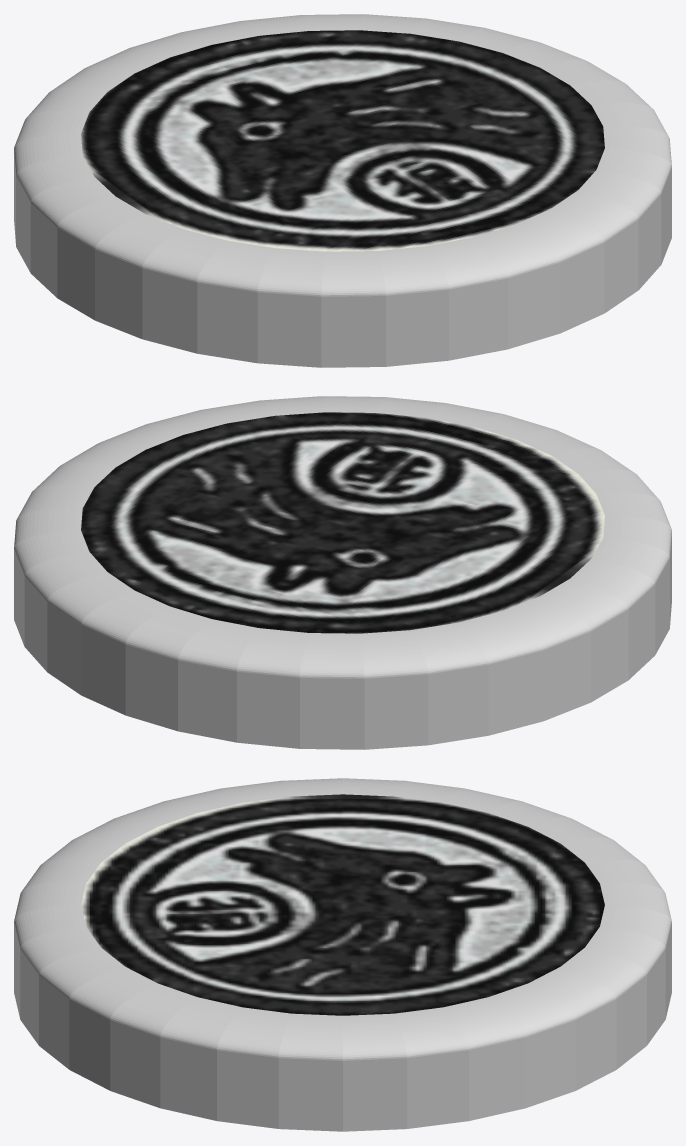
File: Black Wolf.fbx
3 views of the same model, one above another, from view 1: azimuth 30°, elevation 25°; view 2: azimuth 150°, elevation 25°; view 3: azimuth 270°, elevation 25° (orthographic).
Parts seen in each view (by area): view 1: Cylinder.003; view 2: Cylinder.003; view 3: Cylinder.003.
Boxes of the visible parts, box(x1,y1,x2,y2) form: Cylinder.003: box(14, 14, 671, 367); Cylinder.003: box(14, 396, 671, 749); Cylinder.003: box(14, 778, 671, 1131).
Bounding box in the file's own units: 151 × 22.19 × 151.
2 materials, 1 textured.
